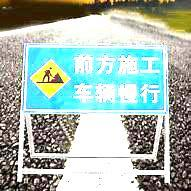sign: (22, 42, 168, 117)
